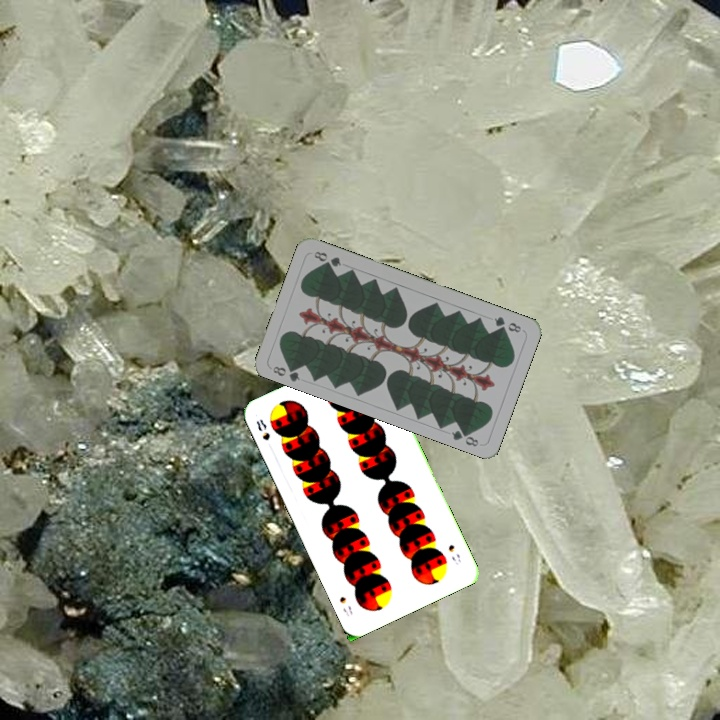G8: (269, 360, 303, 384), (490, 312, 524, 335)
S8: (252, 415, 273, 443), (444, 540, 463, 567)
